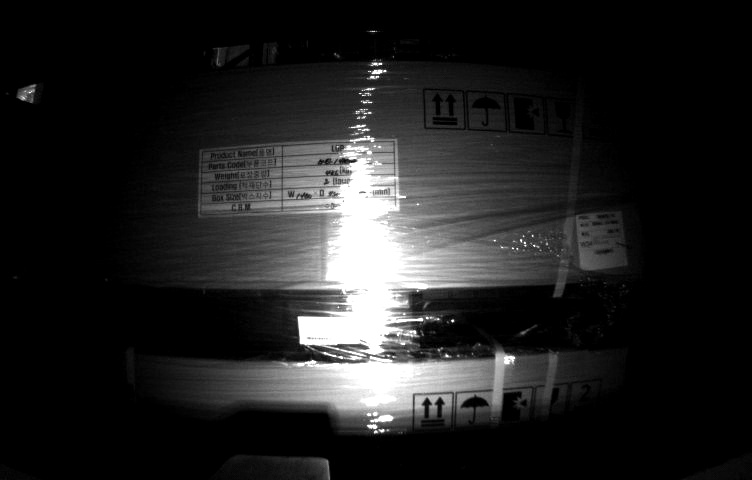True Barcode: (575, 209, 631, 270)
